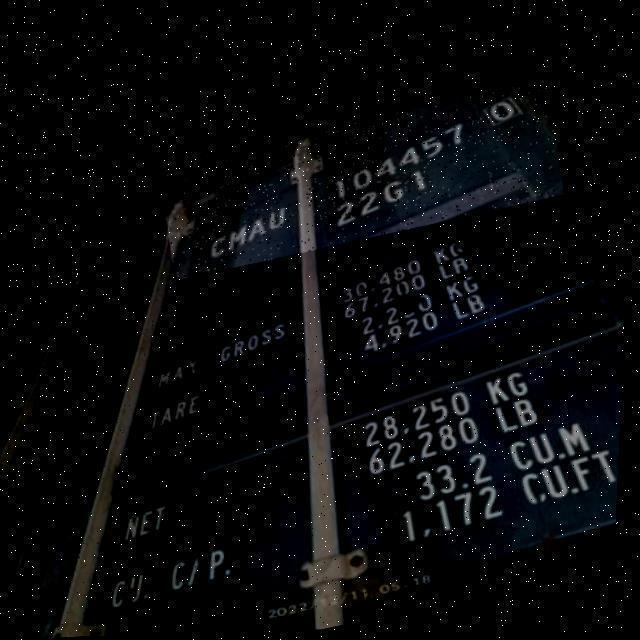ISO: (331, 172, 436, 232)
container_number: (205, 92, 512, 264)
